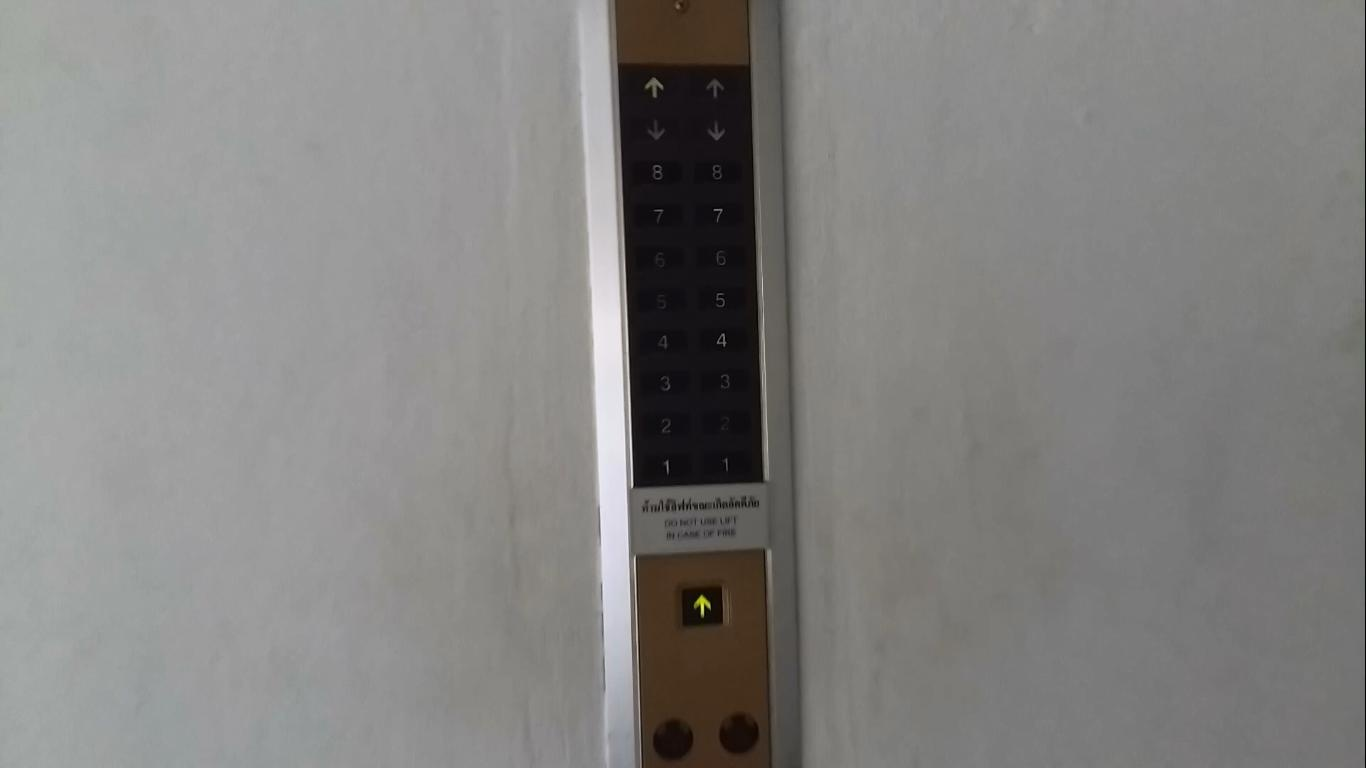1: (642, 452, 696, 478), (700, 451, 754, 477)
2: (639, 413, 693, 438), (697, 412, 751, 437)
3: (637, 370, 691, 395), (697, 370, 751, 395)
4: (635, 328, 689, 353), (695, 328, 749, 353)
5: (635, 287, 689, 312), (694, 287, 748, 312)
6: (632, 246, 686, 271), (691, 246, 745, 271)
7: (631, 201, 684, 229), (692, 201, 745, 229)
8: (630, 157, 684, 186), (690, 157, 744, 186)
down: (628, 114, 682, 143), (689, 115, 743, 143)
empty: (717, 711, 762, 756), (651, 717, 695, 762)
up: (675, 580, 731, 630), (687, 73, 742, 101), (627, 73, 681, 101)
